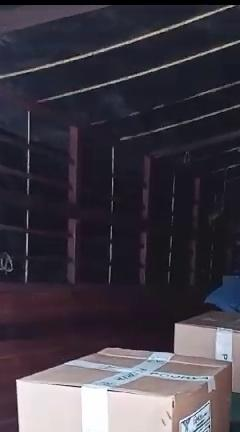box: (17, 348, 231, 432), (175, 311, 240, 393)
